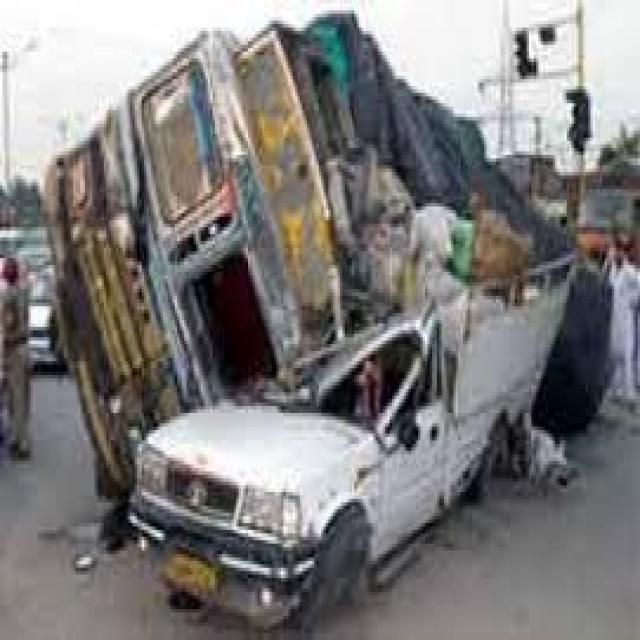severe: (31, 13, 582, 630)
